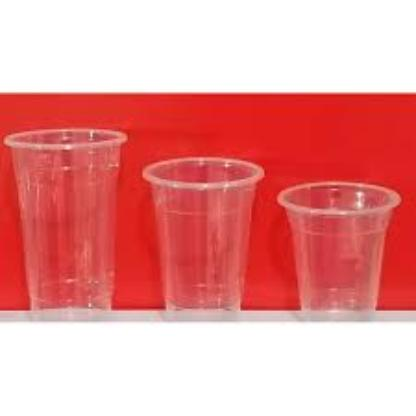Plastic Cup: (0, 120, 132, 324), (142, 146, 274, 318), (278, 166, 400, 322)
